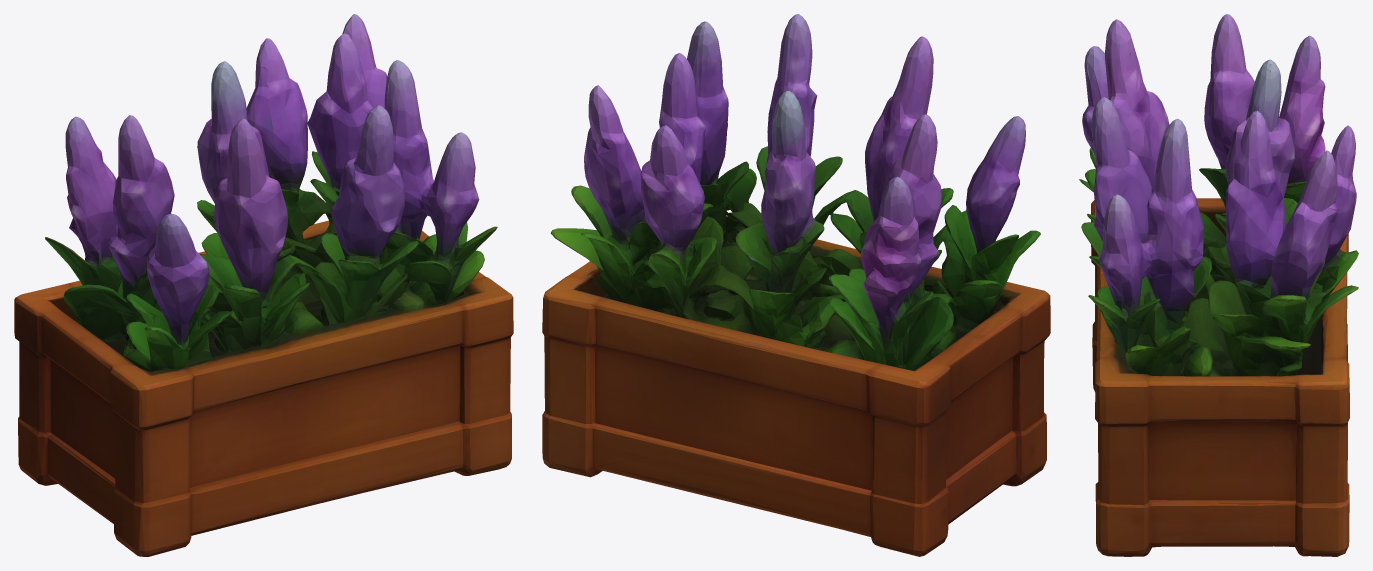
File: purple_flower_bed.glb
The picture shows the model from 3 angles, left to right: view 1: azimuth 30°, elevation 25°; view 2: azimuth 150°, elevation 25°; view 3: azimuth 270°, elevation 25°; orthographic projection.
Visible parts, largest first — view 1: geometry_0; view 2: geometry_0; view 3: geometry_0.
Boxes of the visible parts, left/top/right/bottom form: geometry_0: left=14, top=14, right=513, bottom=556; geometry_0: left=542, top=14, right=1050, bottom=556; geometry_0: left=1079, top=14, right=1358, bottom=556.
Bounding box in the file's own units: 0.9972 × 0.9967 × 0.6128.
Materials: 1 (1 with a texture image).
